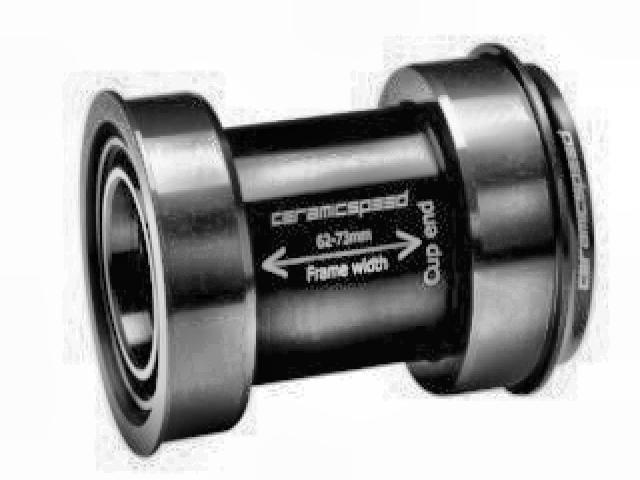bottom_bracket: (77, 39, 598, 462)
